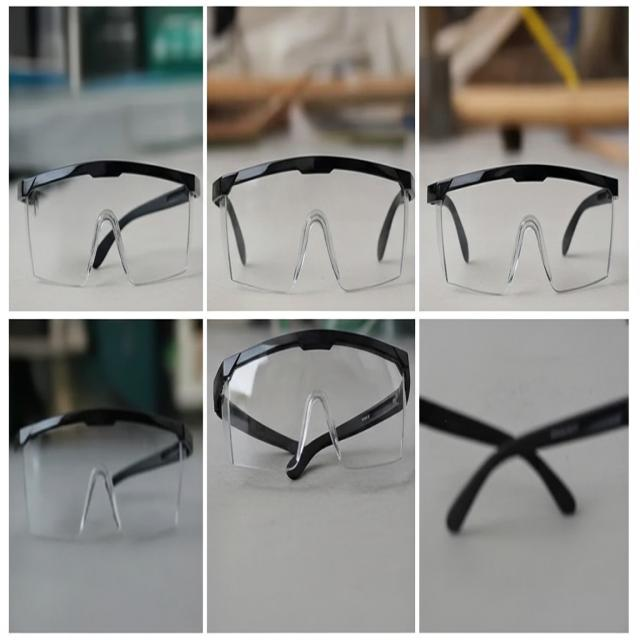oculos-epi: (213, 329, 410, 479), (419, 397, 628, 532), (212, 155, 415, 292), (427, 163, 618, 294), (17, 408, 193, 539), (17, 160, 200, 285)
